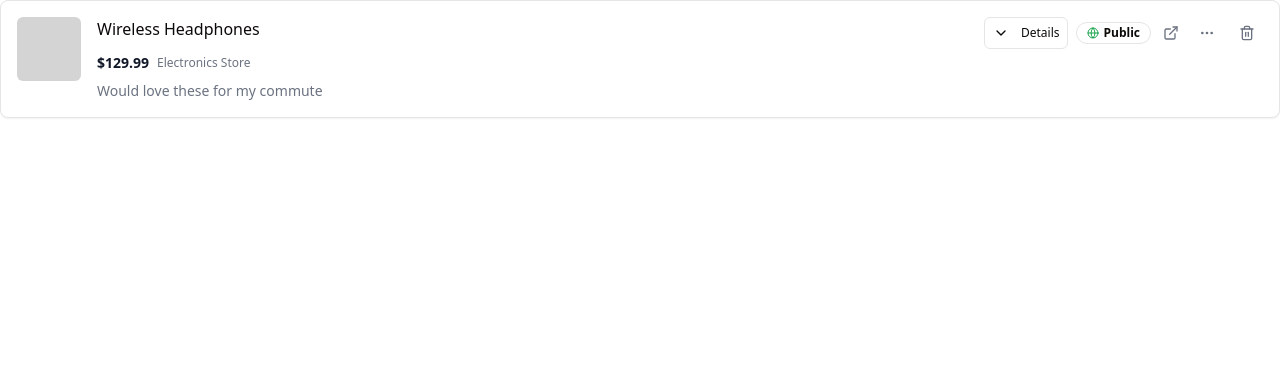
it: WishlistItem Component › should hide price alert actions when remote config disables price alerts
Click the button with test id "wishlist-item-more-1": (1207, 33) [1191,17,1223,49]
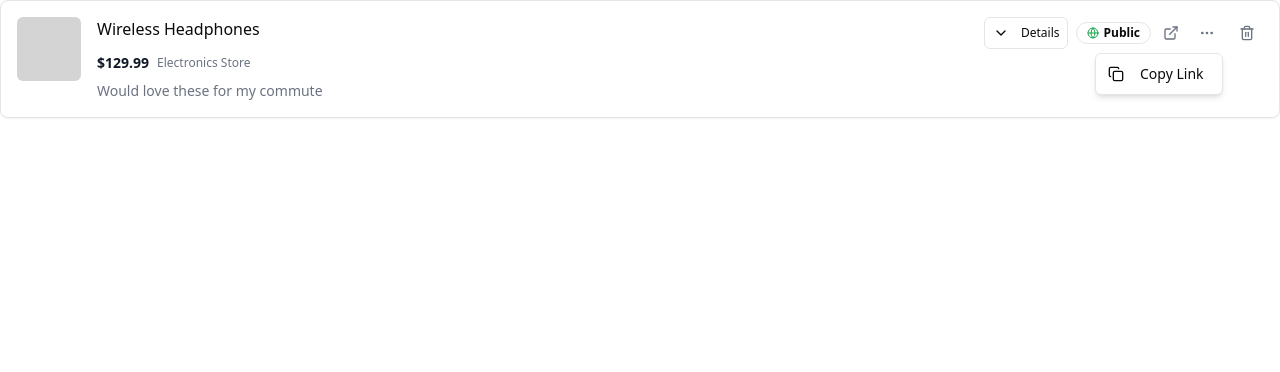
Press Escape
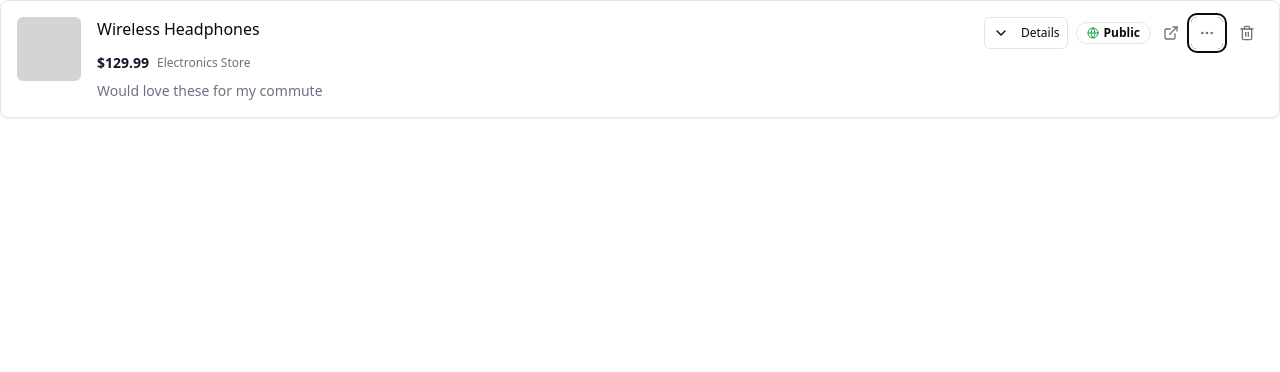
Click the button "Details": (1026, 33) [984,17,1068,49]
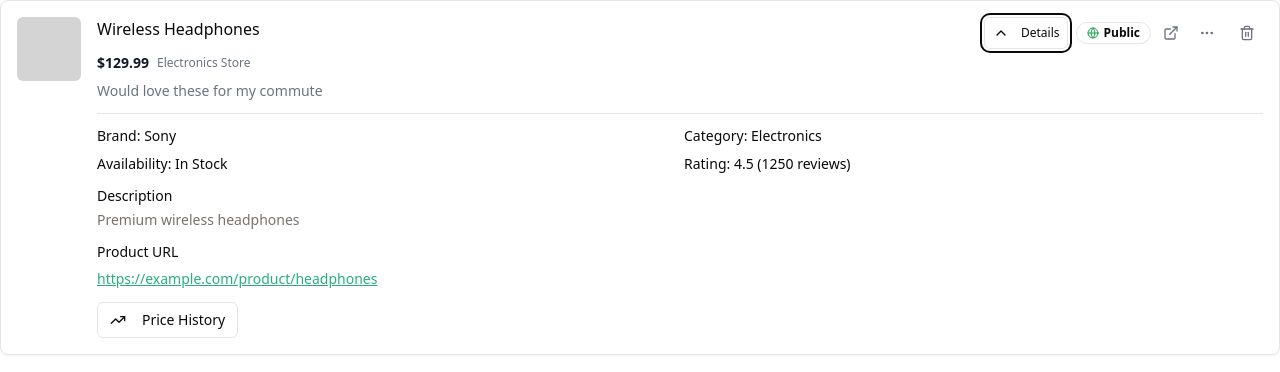
Check: the element with test id "wishlist-item-expanded-1" is shown, box [97,113,1263,338]
